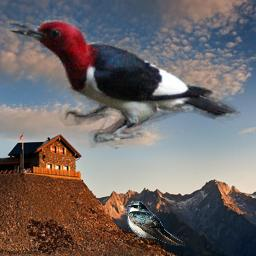Swallow: (127, 201, 185, 246)
Woodpecker: (0, 14, 241, 149)
